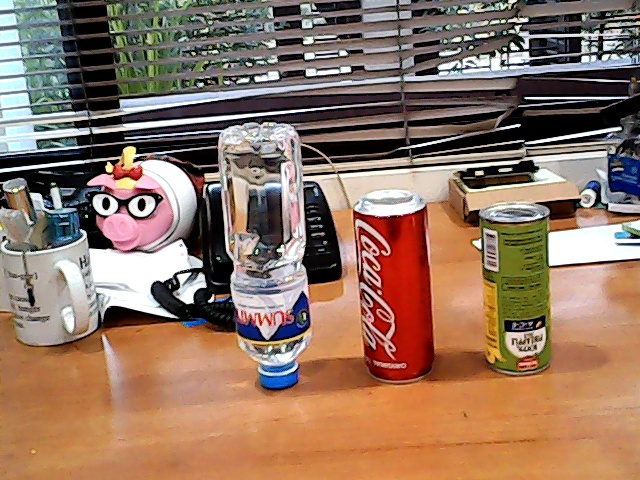Cola: (343, 173, 449, 392)
Pine Juice: (462, 195, 571, 381)
Summit Water: (205, 115, 322, 397)
